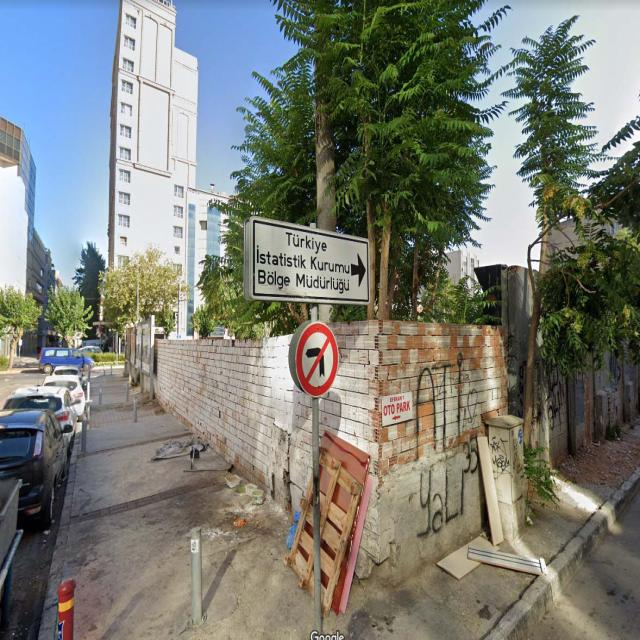soladonulmez: (294, 324, 339, 392)
